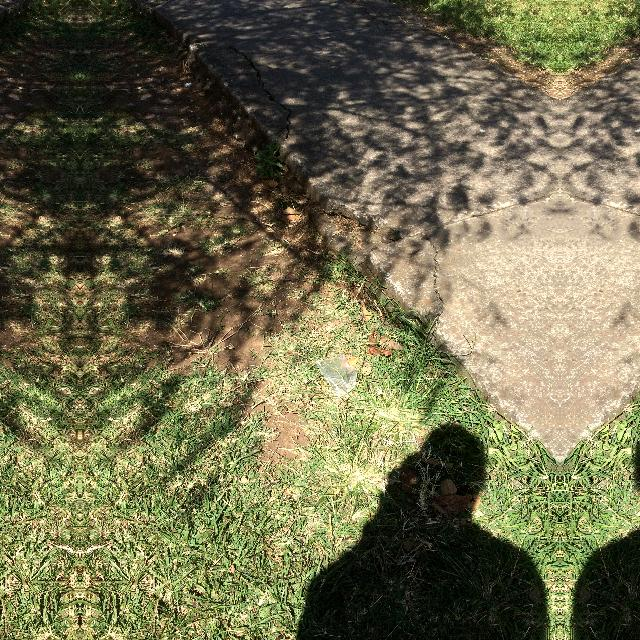Plastic: (314, 352, 362, 396)
